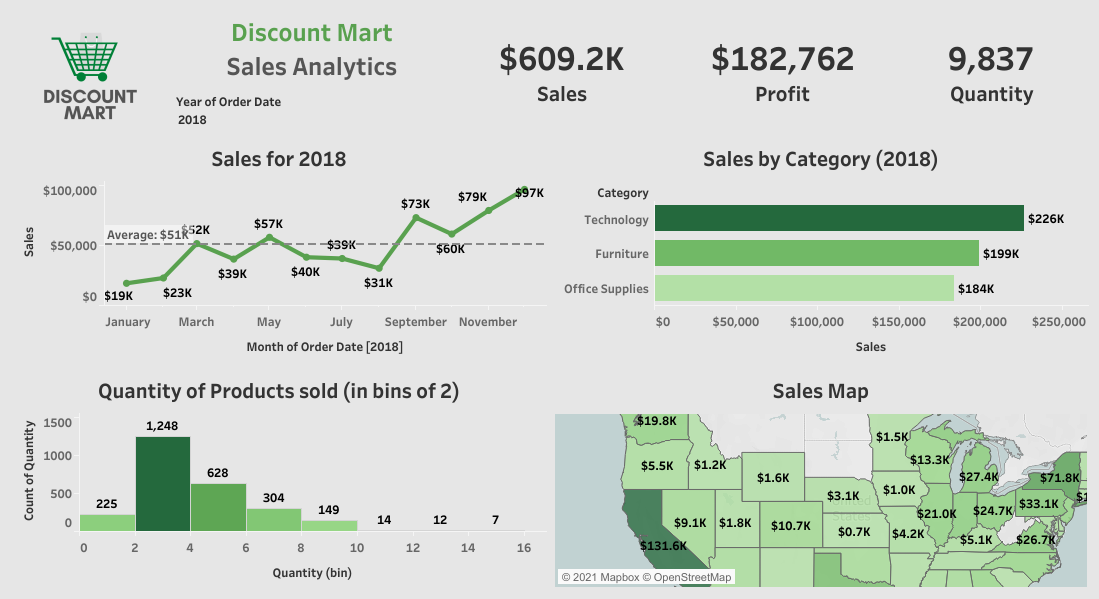

The dashboard page shown, as its layout file describes it:
{"tool":"tableau","page":{"name":"Dashboard 1","canvas":[1000,1000],"units":"permille","ordinal":0},"visuals":[{"type":"worksheet","box":[0,0,1000,1000]},{"type":"worksheet","param":"horz","box":[7.3,13.3,985.5,973.3]},{"type":"worksheet","param":"horz","box":[7.3,13.3,985.5,973.3]},{"type":"worksheet","box":[7.3,13.3,985.5,973.3]},{"type":"worksheet","param":"Image/Discount+Mart+(1).png","box":[7.3,13.3,149.1,210]},{"type":"worksheet","box":[156.3,13.3,254.6,131.7]},{"type":"worksheet","title":"Sales Card","mark":"Automatic","box":[410.9,13.3,201.8,210]},{"type":"worksheet","title":"Profit Card","mark":"Automatic","box":[612.7,13.3,198.2,210]},{"type":"worksheet","title":"Quantity Card","mark":"Automatic","box":[810.9,13.3,181.8,210]},{"type":"worksheet","title":"Yearly Sales","mark":"Automatic","rows":["Sales"],"cols":["Order Date"],"param":"[federated.1hhkc960fsxthc1awf12i1usuikt].[yr:Order Date:ok]","box":[156.3,145,254.6,78.3]},{"type":"worksheet","title":"Yearly Sales","mark":"Automatic","rows":["Sales"],"cols":["Order Date"],"box":[7.3,223.3,492.7,386.7]},{"type":"worksheet","title":"Yearly by Category","mark":"Automatic","rows":["Category"],"cols":["Sales"],"box":[500,223.3,492.7,386.7]},{"type":"worksheet","title":"Product sold per order","mark":"Automatic","rows":["Quantity"],"cols":["Quantity (bin)"],"box":[7.3,610,492.7,376.7]},{"type":"worksheet","title":"Sales Map","mark":"Automatic","box":[500,610,492.7,376.7]}]}

Visuals, with their boxes on the dashboard's canvas, which has no fixed pixel size, in thousandths of its width and height (x1, y1, x2, y2). These are canvas units, not pixel positions in the 1099x599 screenshot, which may show the page scaled, cropped or inside an application window:
worksheet: <box>0,0,1000,1000</box>
worksheet: <box>7,13,993,987</box>
worksheet: <box>7,13,993,987</box>
worksheet: <box>7,13,993,987</box>
worksheet: <box>7,13,156,223</box>
worksheet: <box>156,13,411,145</box>
"Sales Card" worksheet: <box>411,13,613,223</box>
"Profit Card" worksheet: <box>613,13,811,223</box>
"Quantity Card" worksheet: <box>811,13,993,223</box>
"Yearly Sales" worksheet: <box>156,145,411,223</box>
"Yearly Sales" worksheet: <box>7,223,500,610</box>
"Yearly by Category" worksheet: <box>500,223,993,610</box>
"Product sold per order" worksheet: <box>7,610,500,987</box>
"Sales Map" worksheet: <box>500,610,993,987</box>
